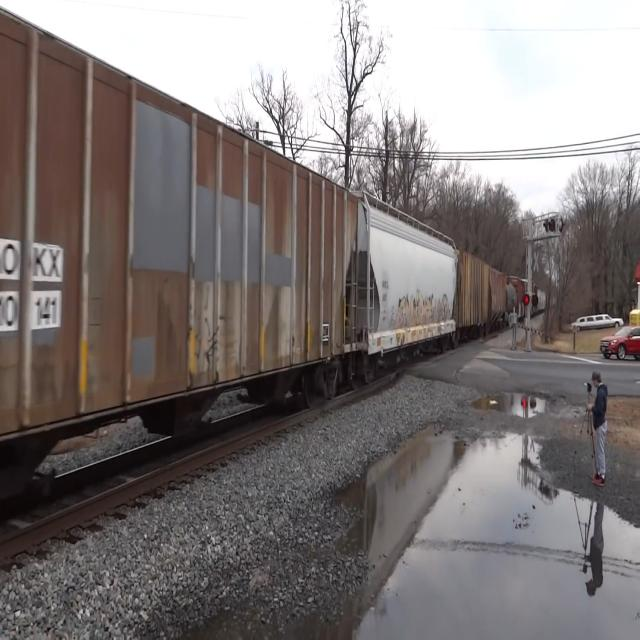gondola: (0, 6, 350, 498)
hopper: (357, 179, 460, 382)
